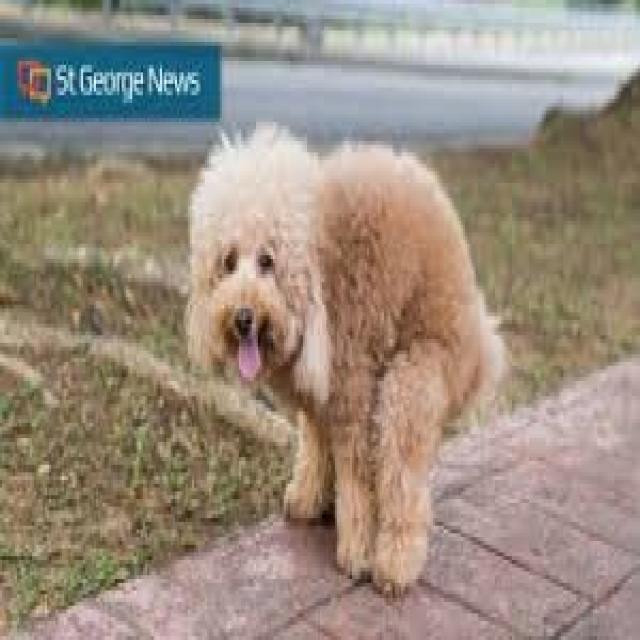Dogpoop: (180, 123, 500, 592)
